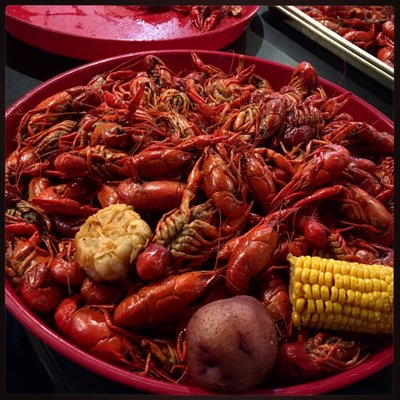sushi: (9, 5, 260, 56)
